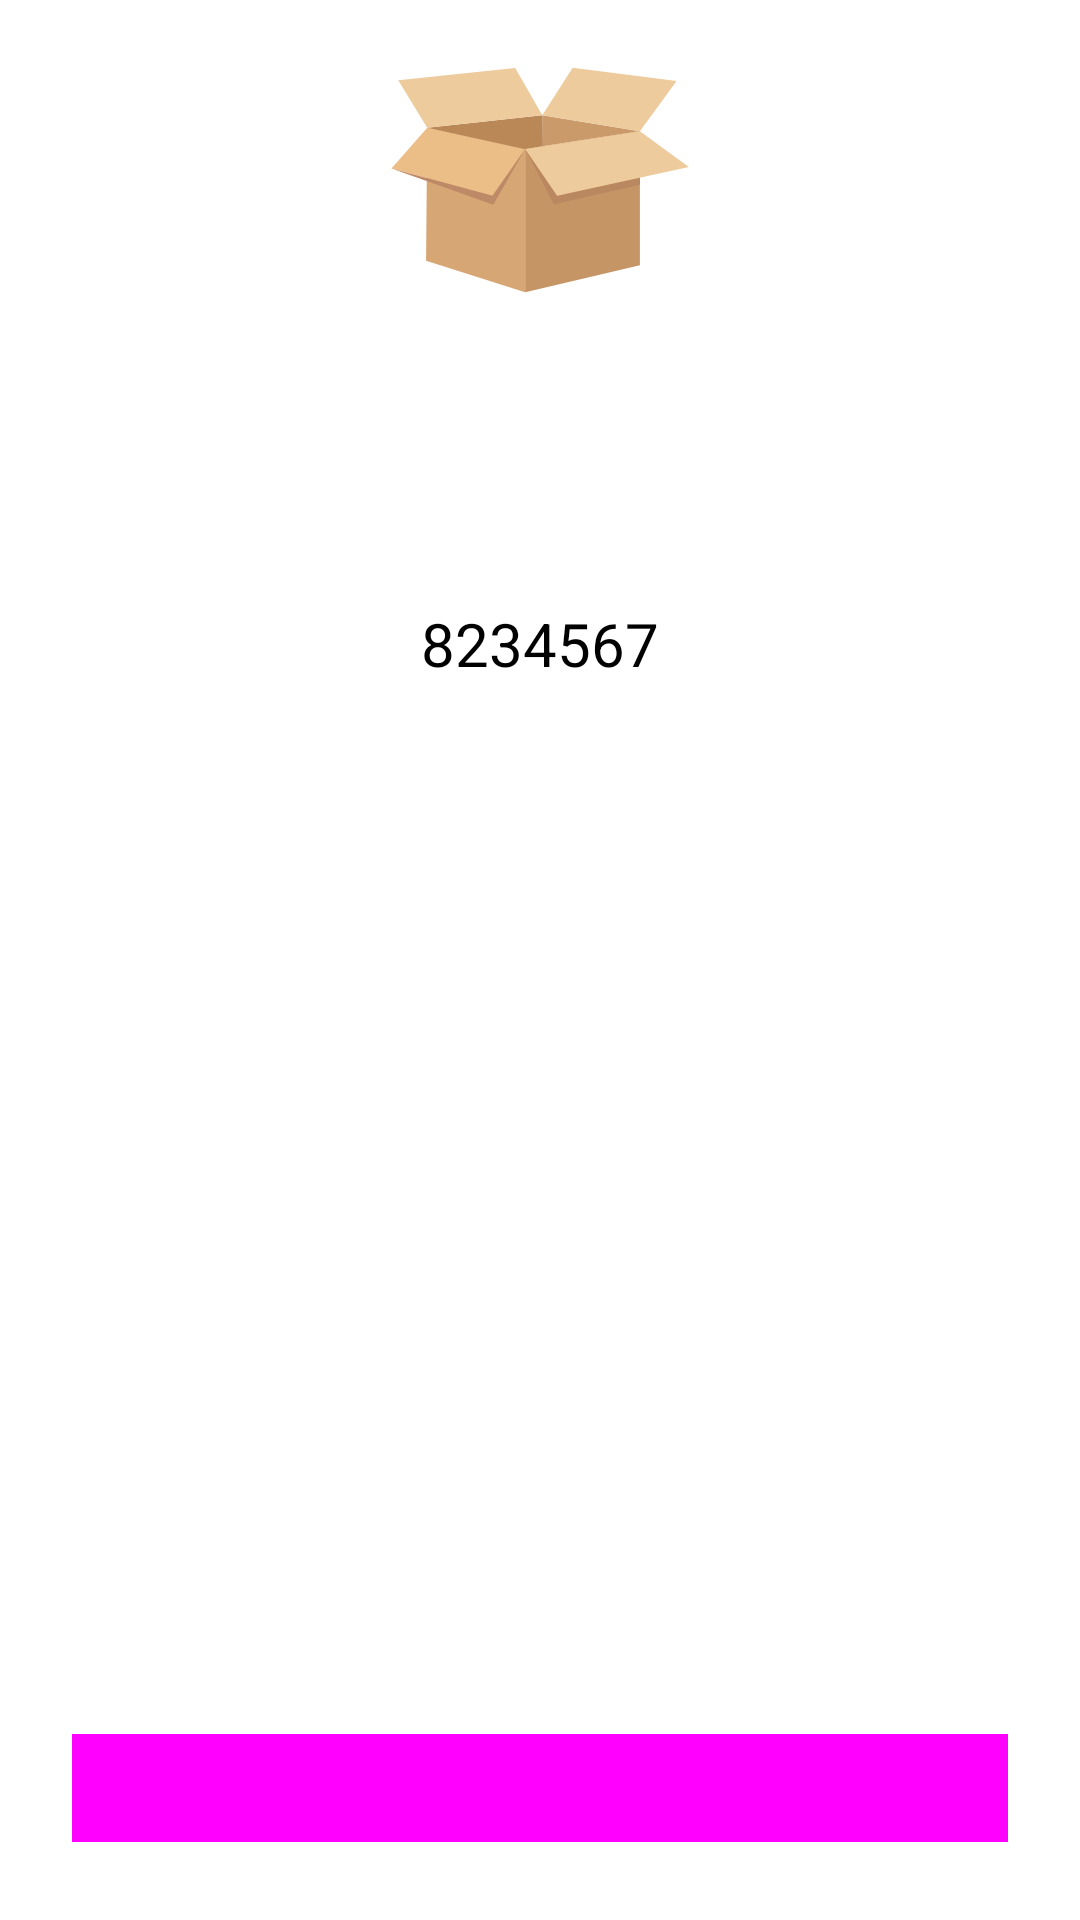

Icons on this 1080w x 1920h Android screen, each with the point to tap as [x,y]:
open box: [539,180]
